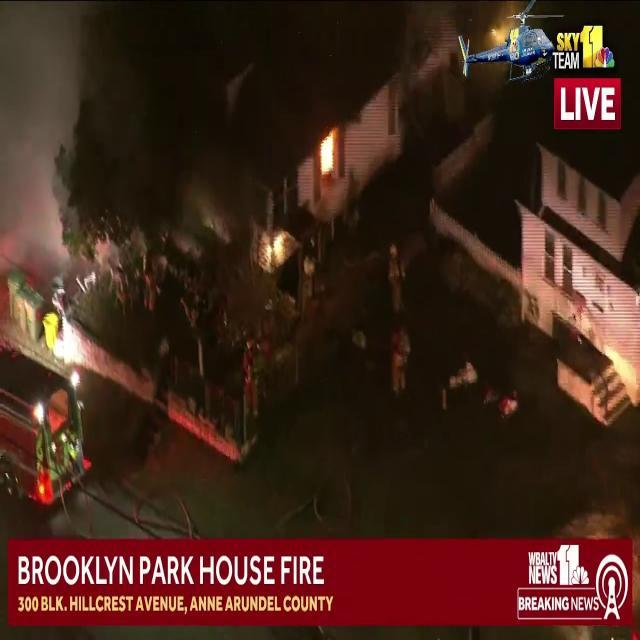Fire: (318, 122, 338, 183)
Smoke: (0, 0, 92, 292)
